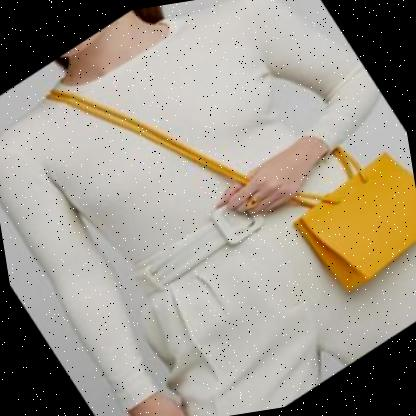bag: (275, 137, 416, 308)
